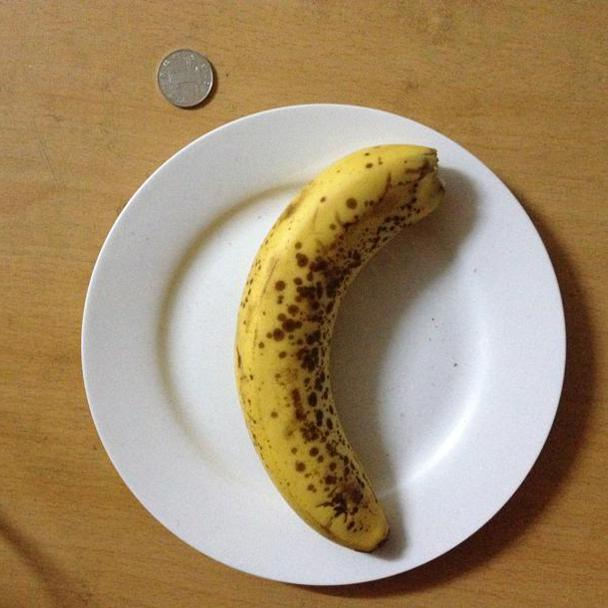banana: (235, 149, 432, 550)
